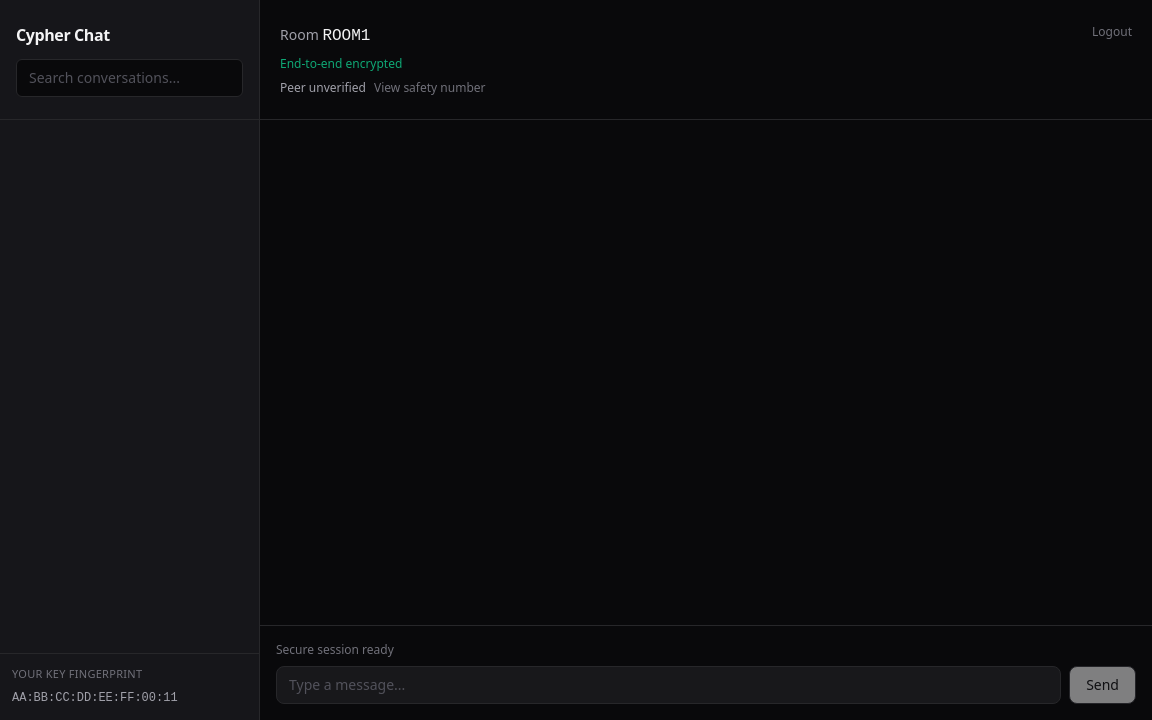
Test: ChatRoom integration › does not mark a switched-away room message delivered from stale socket acks
Type "switch before ack" into the field with placeholder "Type a message..." at (669, 685), box x1=276 y1=666 x2=1061 y2=704
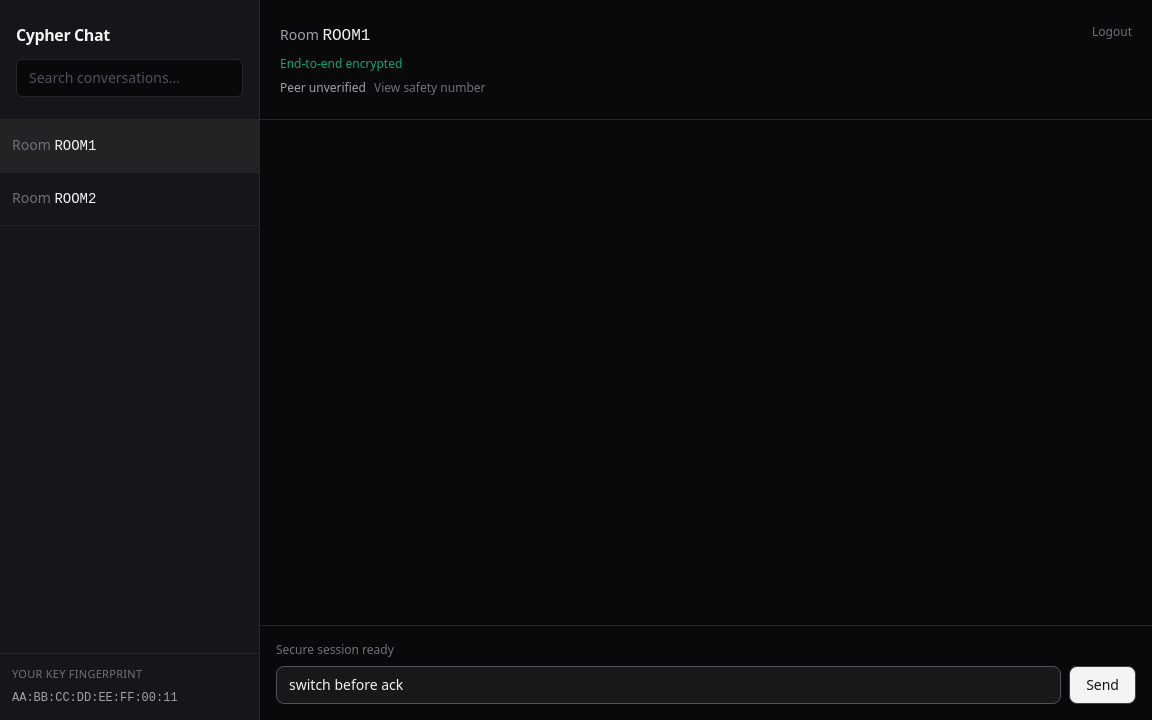
Click the button "Send" at (1103, 685), box x1=1069 y1=666 x2=1136 y2=704
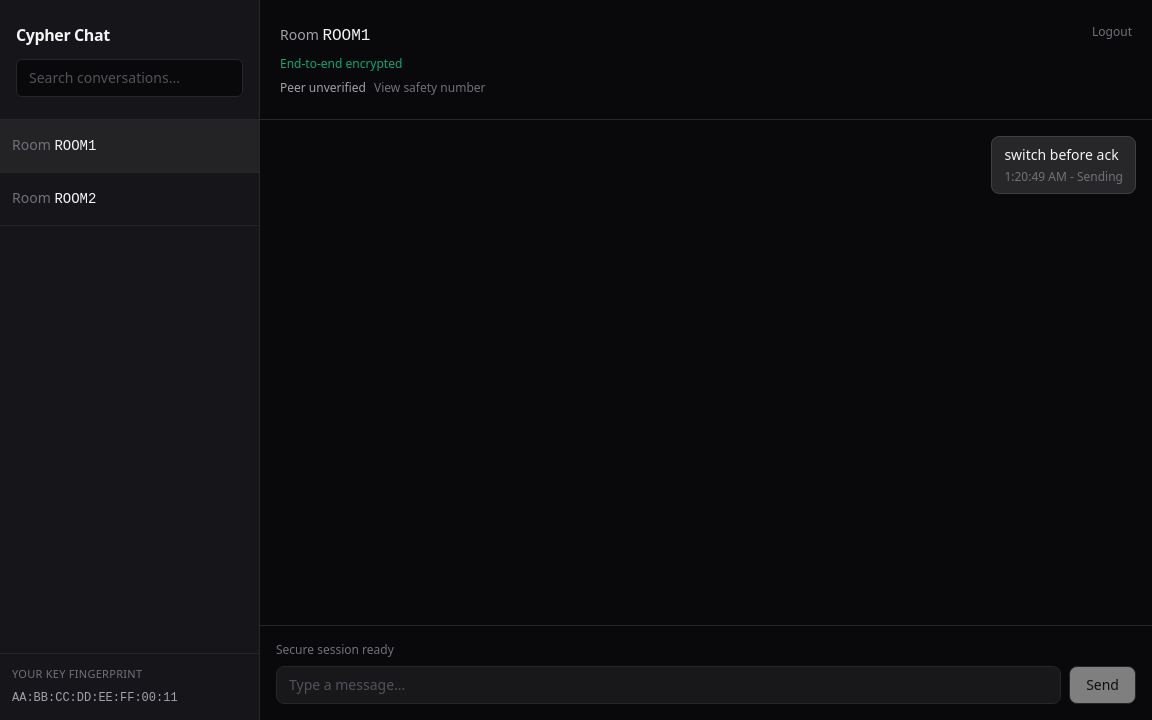
Click the text "ROOM2" at (75, 198), box x1=54 y1=190 x2=96 y2=206
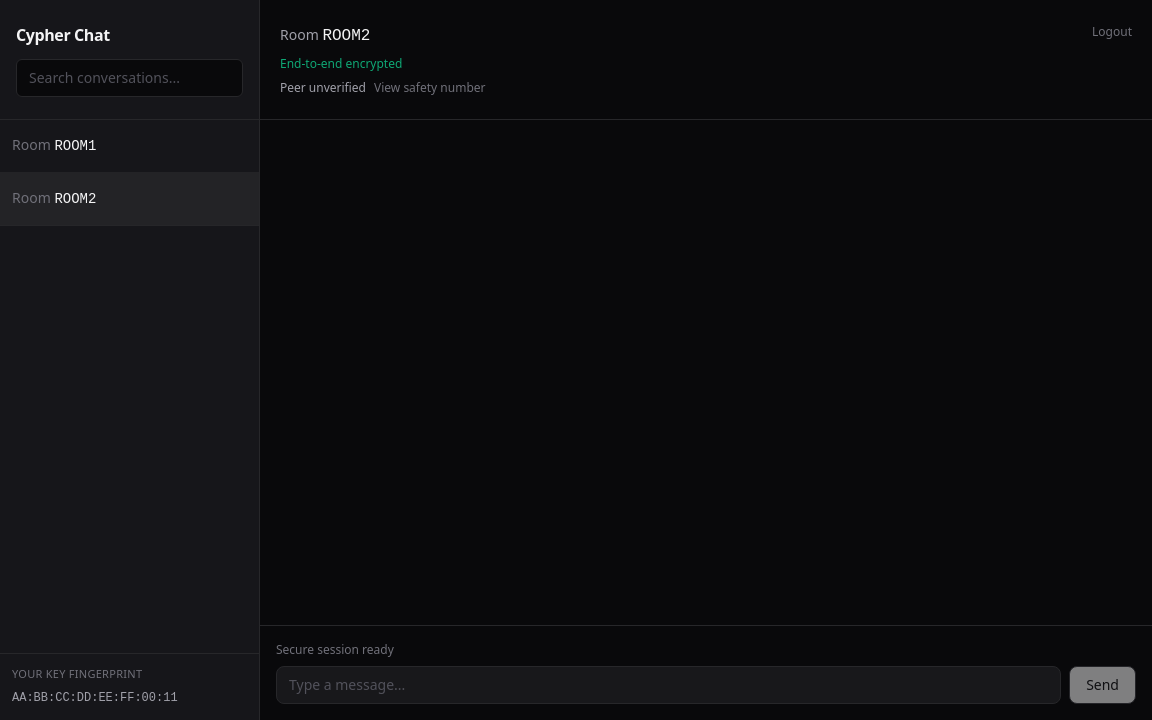
Expected: the text "switch before ack" is gone
